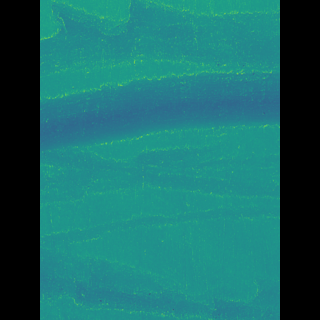Loch: (69, 67, 250, 196), (70, 0, 249, 76), (70, 254, 237, 320), (71, 204, 248, 249)
